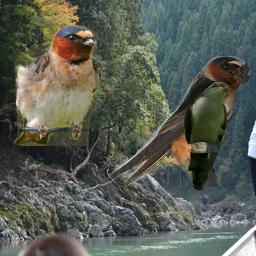Cuckoo: (183, 81, 230, 190)
Swallow: (108, 56, 250, 187), (13, 25, 101, 146)
